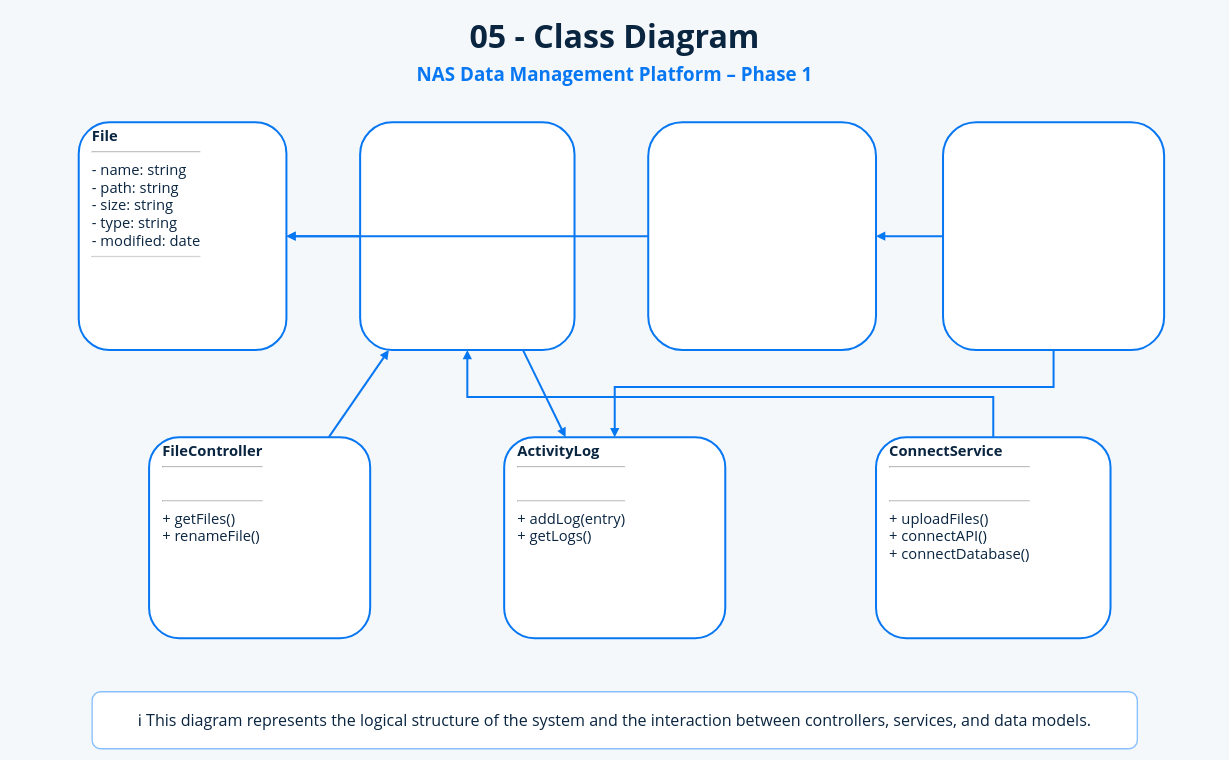
Image size: 1229x760. Some labels were removed from this diagram. Here are the shapes that lost their labels. From the top down, the centre of each, then its label:
At point (467, 236): "FileService + getFiles(path) + renameFile(file) + detectBadNames()".
At point (762, 236): "AIService + parseCommand(message) + detectIssues(files) + generateResponse()".
At point (1053, 236): "ChatController + handleChatRequest() + sendToAI()".
